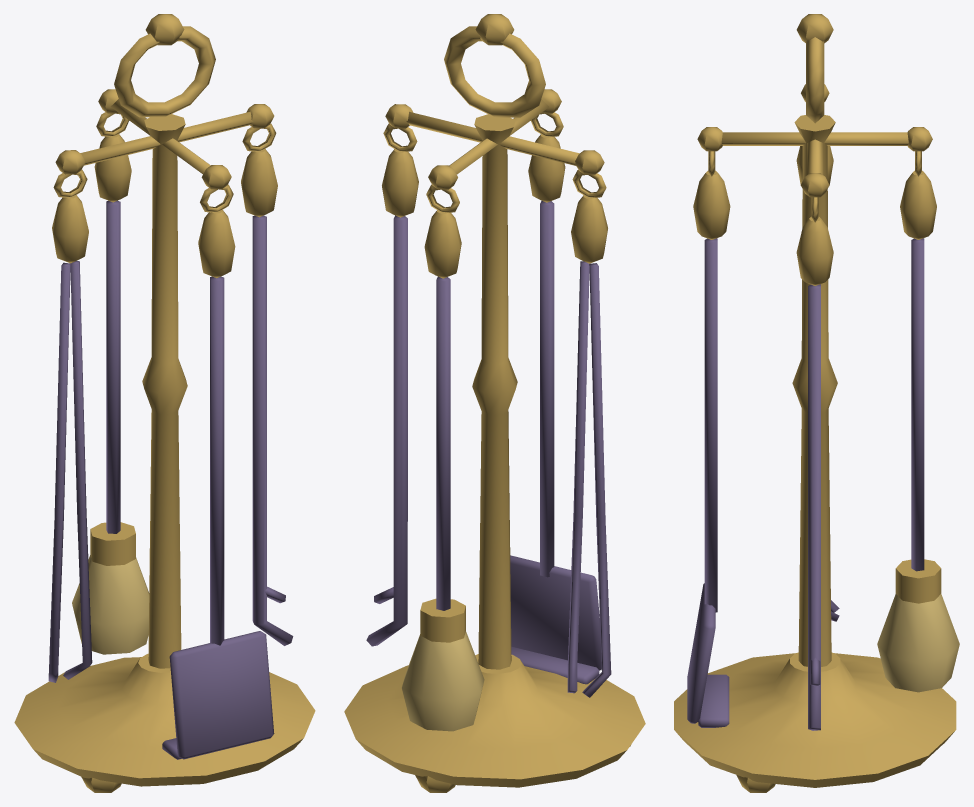
Rendered from fire_tools.glb.
3 views of the same model, side by side, from view 1: azimuth 30°, elevation 25°; view 2: azimuth 150°, elevation 25°; view 3: azimuth 270°, elevation 25° (orthographic).
Parts seen in each view (by area): view 1: fire_tools; view 2: fire_tools; view 3: fire_tools.
Part boxes in pixels (left/top/right/bottom): fire_tools: left=14, top=14, right=315, bottom=792; fire_tools: left=344, top=14, right=645, bottom=792; fire_tools: left=674, top=14, right=959, bottom=792.
Size of what is drawn, in the model's own units: 0.32 by 0.85 by 0.3.
